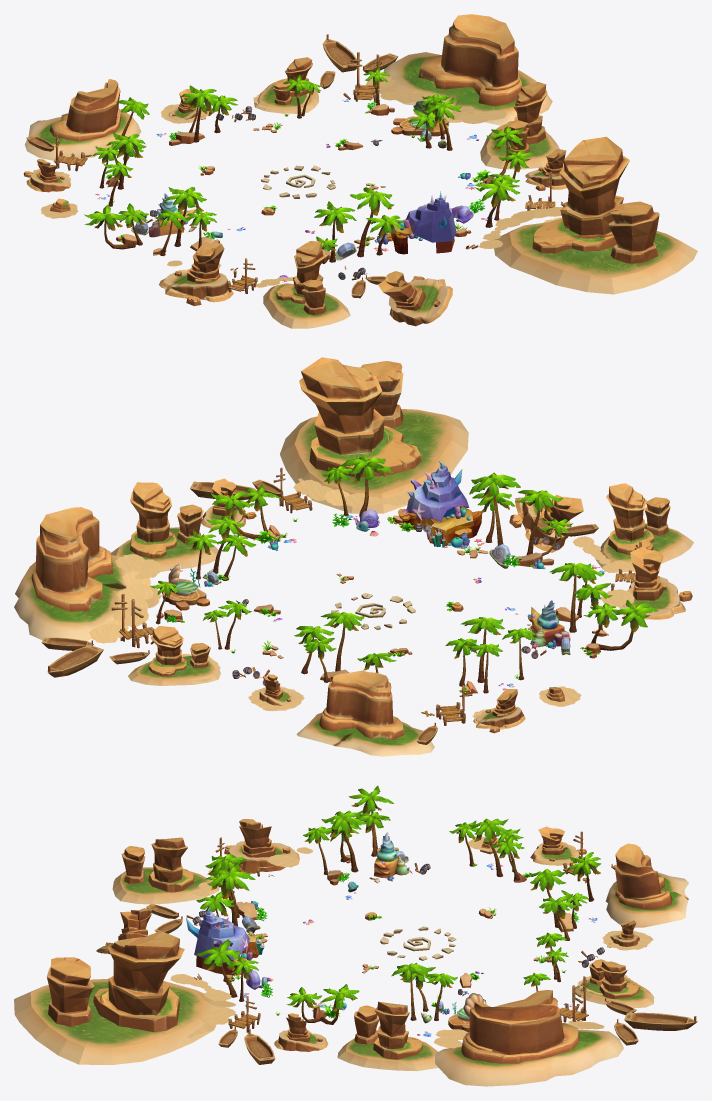
The model's file is wujian.fbx.
3 views of the same model, one above another, from view 1: azimuth 30°, elevation 25°; view 2: azimuth 150°, elevation 25°; view 3: azimuth 270°, elevation 25° (orthographic). The views are drawn at different scales.
Visible parts, largest first — view 1: shatan_shishan02 (1), shatan_shishan03 (1), shatan_shishan03 (2), shatan_shishan02 (4), shatan_shishan02 (2), shatan_shishan01 (2), shatan_shishan01 (3), shatan_dahailuo, shatan_shishan02, shatan_shishan01, shatan_shishan01 (1), shatan_yezishu2 (7) (+14 smaller); view 2: shatan_shishan02 (1), shatan_shishan03 (1), shatan_shishan03 (2), shatan_shishan02 (2), shatan_shishan02 (4), shatan_dahailuo, shatan_shishan02, shatan_shishan01 (3), shatan_shishan01 (2), shatan_shishan01 (1), shatan_shikuaibeike, shatan_zhonghailuo (+12 smaller); view 3: shatan_shishan02 (1), shatan_shishan03 (1), shatan_shishan03 (2), shatan_shishan02 (2), shatan_shishan02 (4), shatan_dahailuo, shatan_shishan02, shatan_shishan01 (3), shatan_shishan01 (1), shatan_shishan01, shatan_chuan (6), shatan_shishan01 (2) (+20 smaller).
Part boxes in pixels (x1,y1,x2,y2): shatan_shishan02 (1): (493, 136, 697, 294); shatan_shishan03 (1): (383, 14, 552, 125); shatan_shishan03 (2): (24, 79, 141, 160); shatan_shishan02 (4): (263, 241, 350, 328); shatan_shishan02 (2): (480, 82, 559, 169); shatan_shishan01 (2): (378, 271, 452, 326); shatan_shishan01 (3): (159, 241, 233, 305); shatan_dahailuo: (386, 191, 463, 254); shatan_shishan02: (254, 57, 318, 113); shatan_shishan01: (525, 148, 566, 190); shatan_shishan01 (1): (23, 159, 70, 192); shatan_yezishu2 (7): (350, 187, 394, 257); shatan_shishan02 (1): (280, 357, 468, 513); shatan_shishan03 (1): (14, 507, 128, 640); shatan_shishan03 (2): (296, 670, 434, 756); shatan_shishan02 (2): (111, 482, 219, 571); shatan_shishan02 (4): (595, 483, 693, 572); shatan_dahailuo: (398, 461, 482, 547); shatan_shishan02: (128, 626, 220, 685); shatan_shishan01 (3): (621, 547, 692, 619); shatan_shishan01 (2): (509, 494, 583, 552); shatan_shishan01 (1): (473, 689, 525, 733); shatan_shikuaibeike: (159, 564, 209, 610); shatan_zhonghailuo: (526, 600, 570, 649); shatan_shishan02 (1): (14, 931, 218, 1064); shatan_shishan03 (1): (435, 990, 623, 1086); shatan_shishan03 (2): (605, 843, 688, 927); shatan_shishan02 (2): (337, 1001, 438, 1071); shatan_shishan02 (4): (112, 837, 219, 904); shatan_dahailuo: (186, 907, 261, 975); shatan_shishan02: (575, 959, 654, 1008); shatan_shishan01 (3): (224, 819, 299, 873); shatan_shishan01 (1): (530, 826, 586, 865); shatan_shishan01: (274, 1013, 328, 1051); shatan_chuan (6): (624, 1012, 697, 1030); shatan_shishan01 (2): (96, 908, 151, 954).
Size of the model in its own units: 95.55 by 21.14 by 107.
